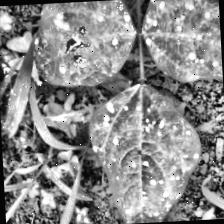Bean Rust: (84, 83, 201, 224), (28, 0, 130, 90), (143, 0, 222, 84)
